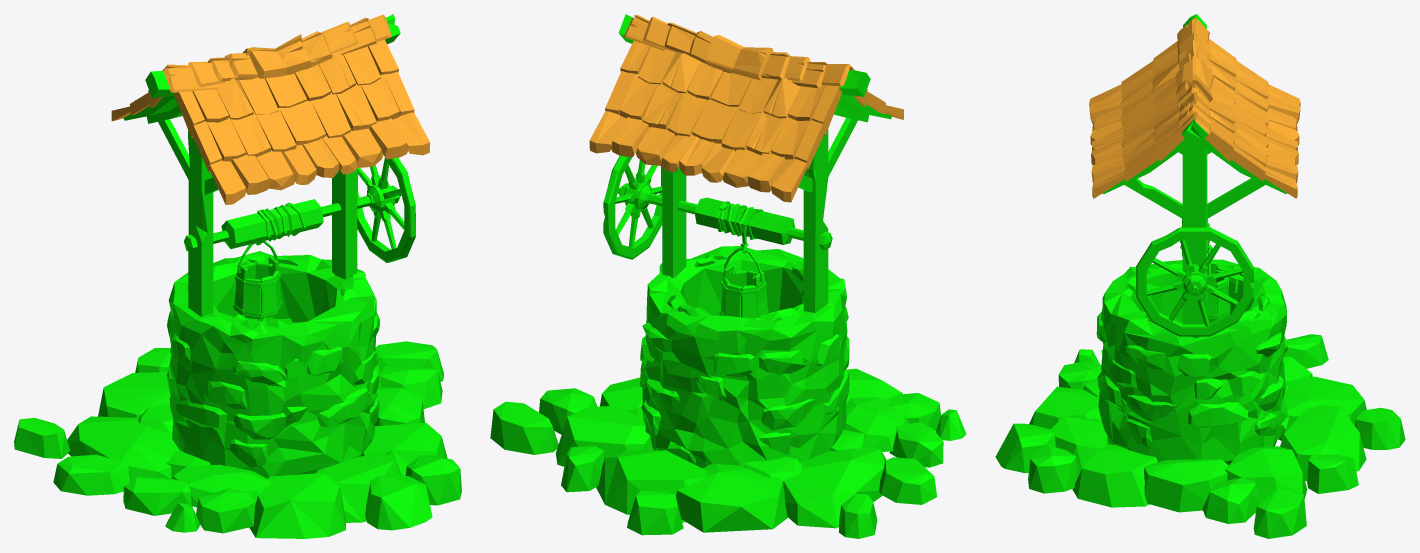
The model's file is SM_Water_Well_A_Fantasy.fbx.
3 views of the same model, side by side, from view 1: azimuth 30°, elevation 25°; view 2: azimuth 150°, elevation 25°; view 3: azimuth 270°, elevation 25° (orthographic). The views are drawn at different scales.
Parts seen in each view (by area): view 1: water-well-a-fantasy; view 2: water-well-a-fantasy; view 3: water-well-a-fantasy.
Part boxes in pixels (<box>): water-well-a-fantasy: <box>14,14,461,538</box>; water-well-a-fantasy: <box>490,14,966,538</box>; water-well-a-fantasy: <box>995,14,1405,538</box>.
Bounding box in the file's own units: 3.2 × 3.12 × 3.
